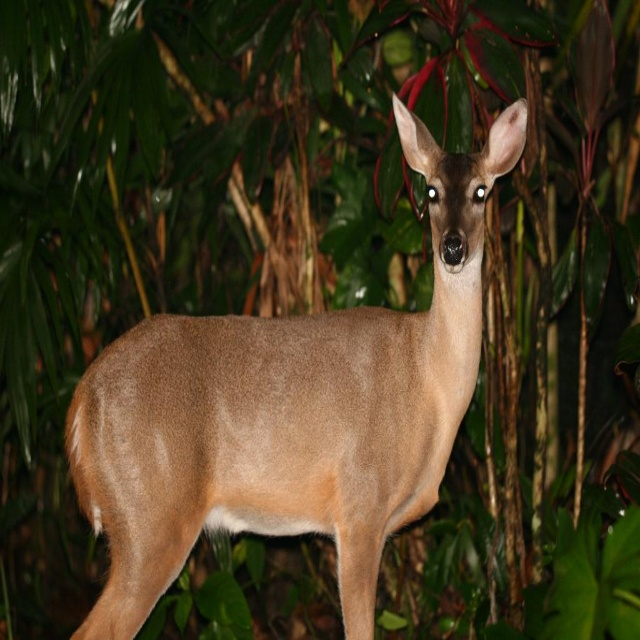Deer: (70, 92, 528, 635)
